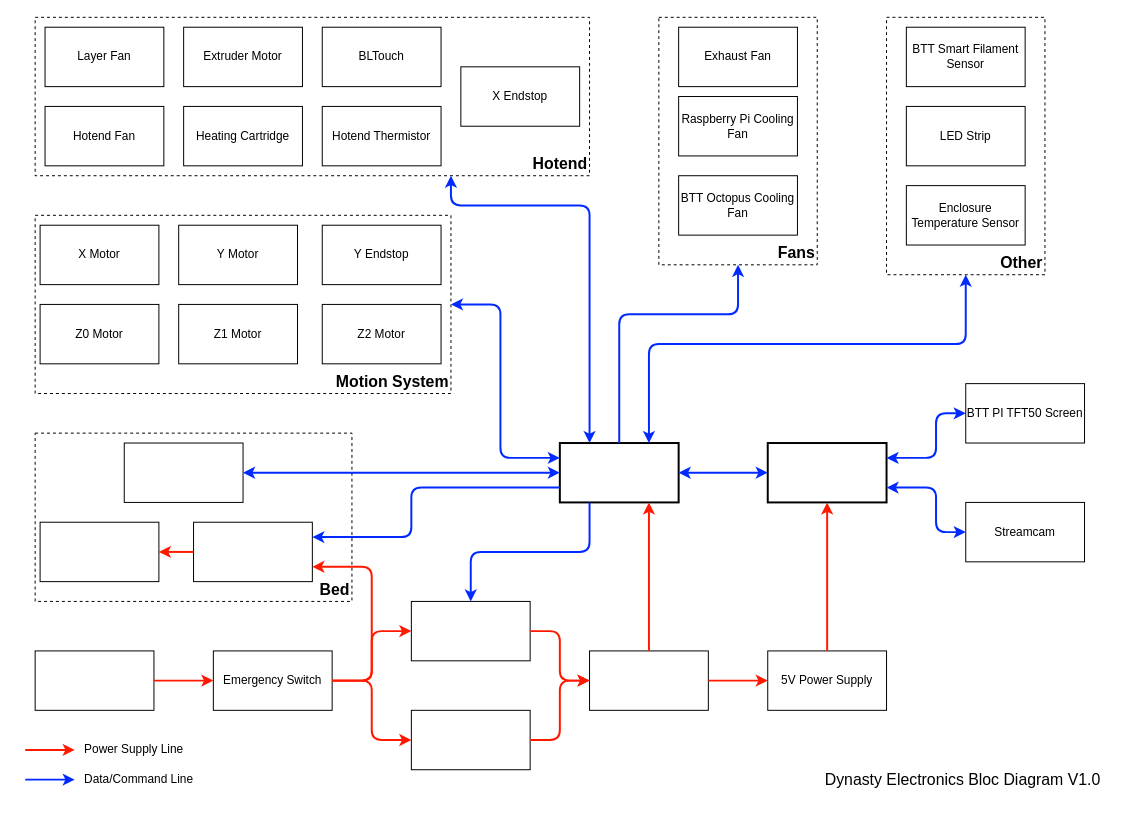
Some shapes in this 1140 by 817 pixel diagram are drawn without their labels. The shapes that lost their labels are listed below. From the top down, each one's centre as x and y in pixels, then its label:
At (183,472): "Bed Thermistor".
At (618,472): "BTT Ocotpus V1.1".
At (826,472): "Raspberry Pi 3B+".
At (99,551): "Heated Bed".
At (252,551): "Bed SSR".
At (470,630): "230V Main Power SSR".
At (94,680): "230V Plug".
At (648,680): "24V Power Supply".
At (470,739): "Power ON Button".
